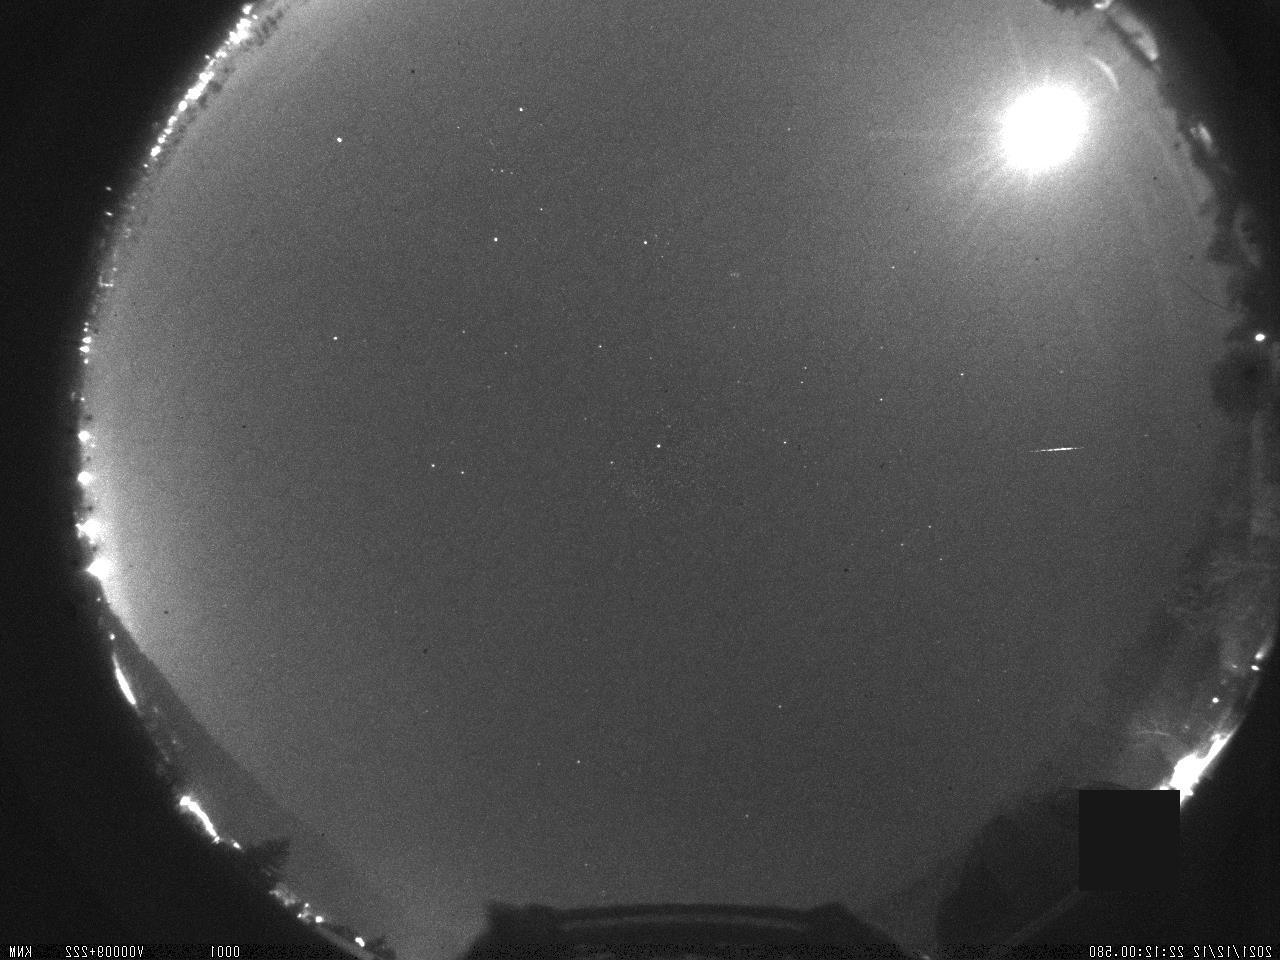meteor: (1012, 429, 1100, 471)
